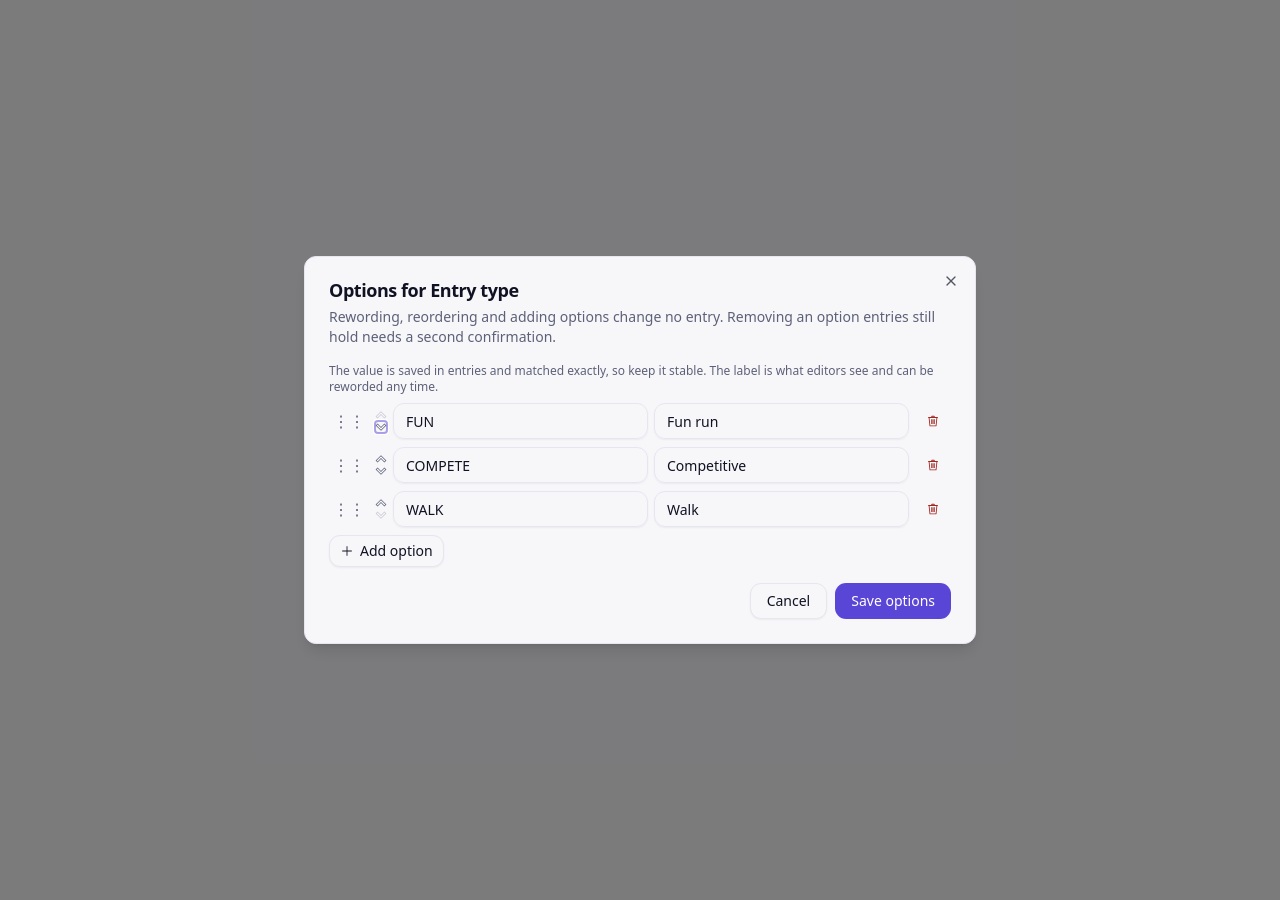
changing the options of a choice field › drops the confirmation when the list changes after the 409
Click the button named "Remove option 3" at (933, 509), box [915, 491, 951, 527]
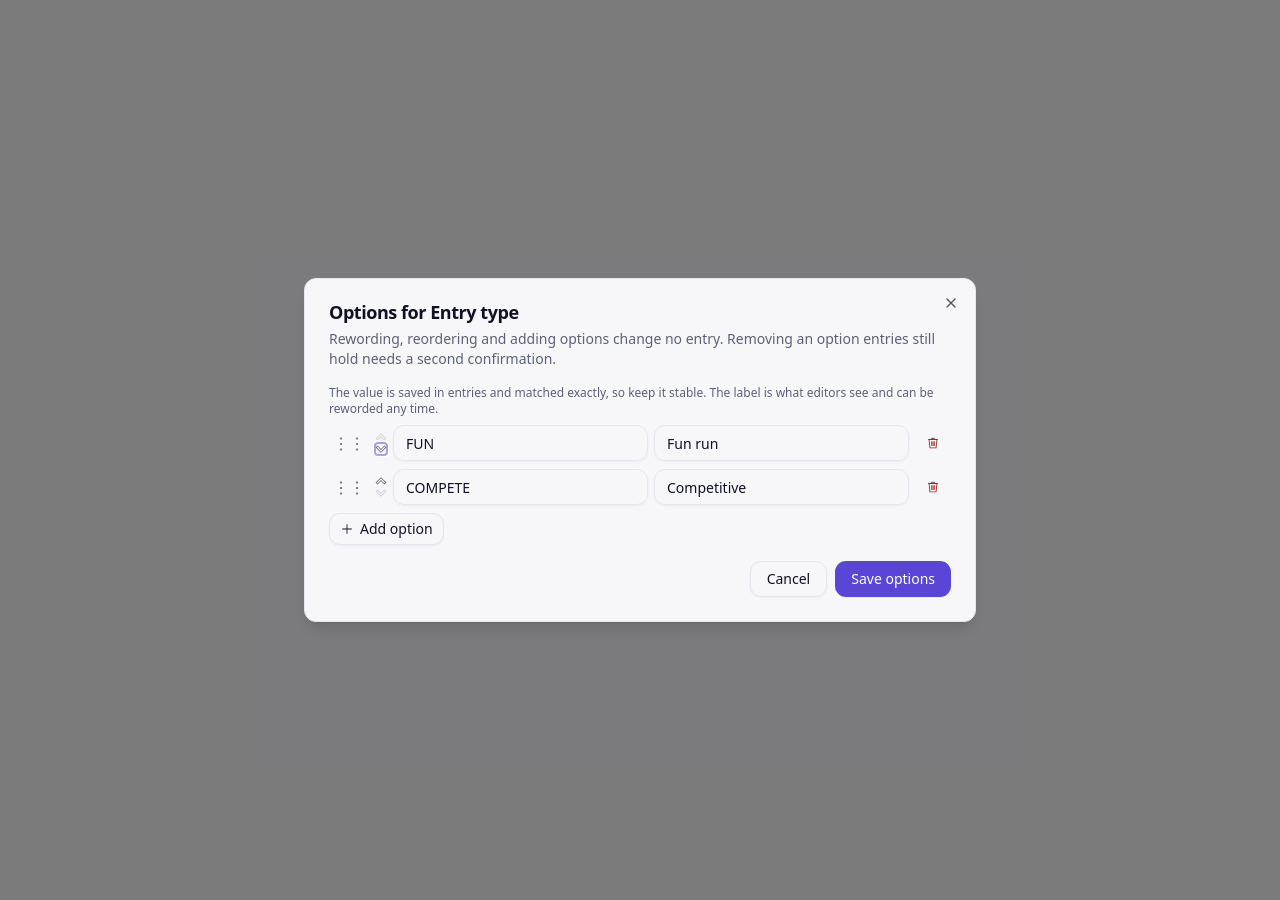
Click the button "Save options" at (893, 579), box [835, 561, 951, 597]
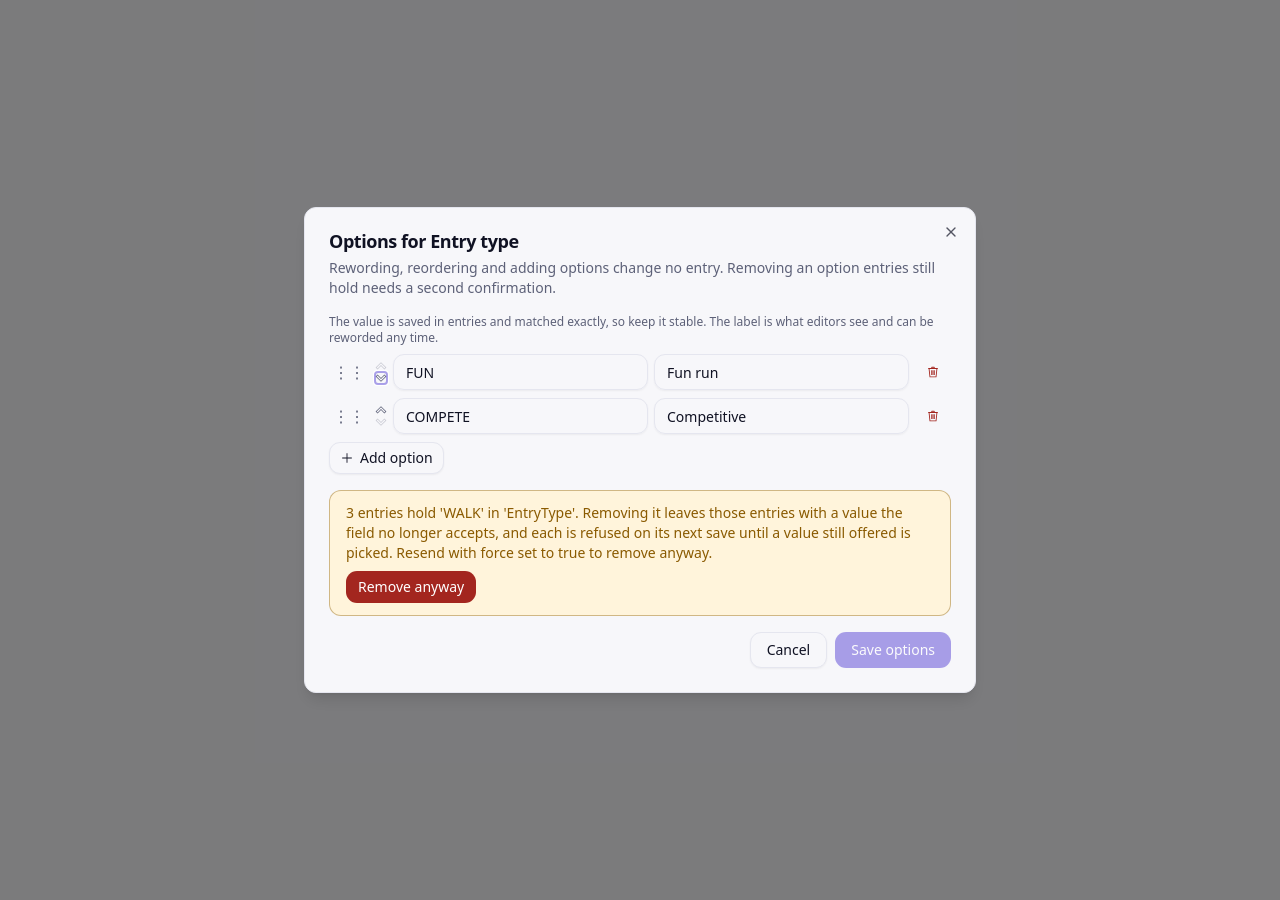
Expected: the message is shown, [329, 490, 951, 616]
Type "5K fun run" into the field named "Label for option 1" at (782, 372), box [654, 354, 909, 390]
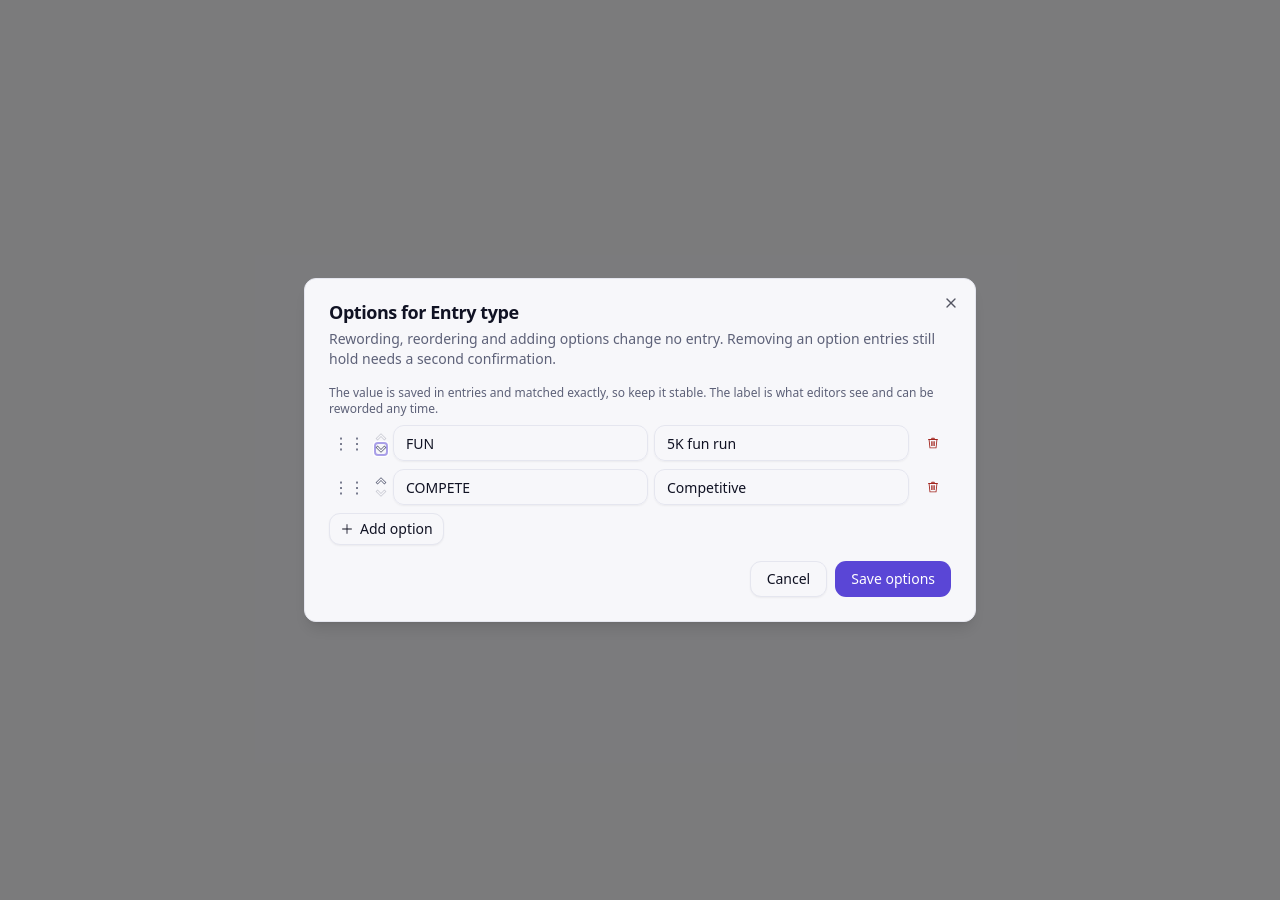
Expected: the text "Remove anyway" is gone
Expected: the button "Save options" is enabled, [835, 561, 951, 597]
